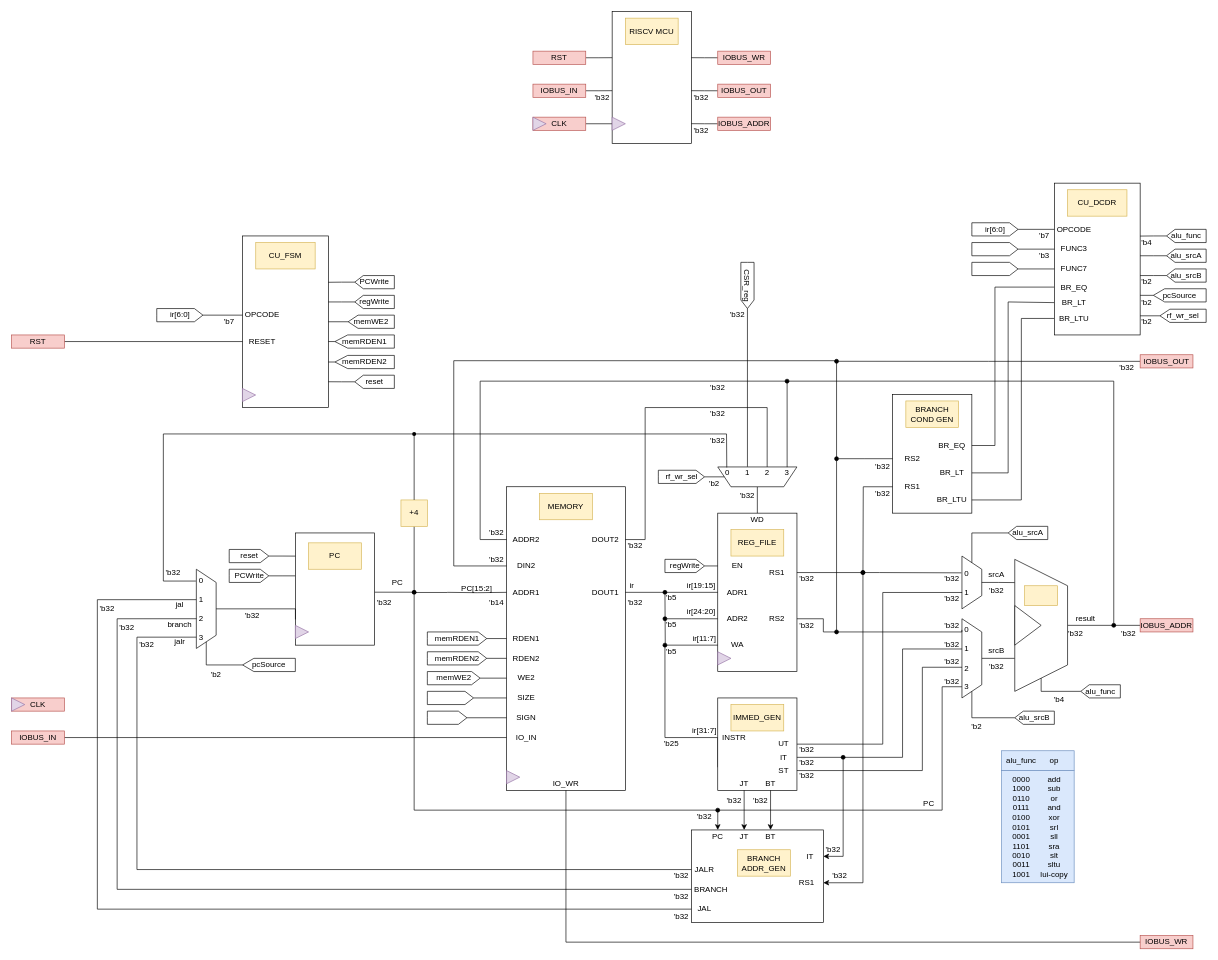
Image size: 1218x960. Some labels were removed from this diagram. The shapes that lost their labels are listed below. From the top down, each one's centre as x and y in pixels, then its label:
At (x=994, y=249): "ir[14:12]".
At (x=994, y=269): "ir[30]".
At (x=1041, y=595): "ALU".
At (x=447, y=717): "ir[14]".
At (x=450, y=698): "ir[13:12]".
